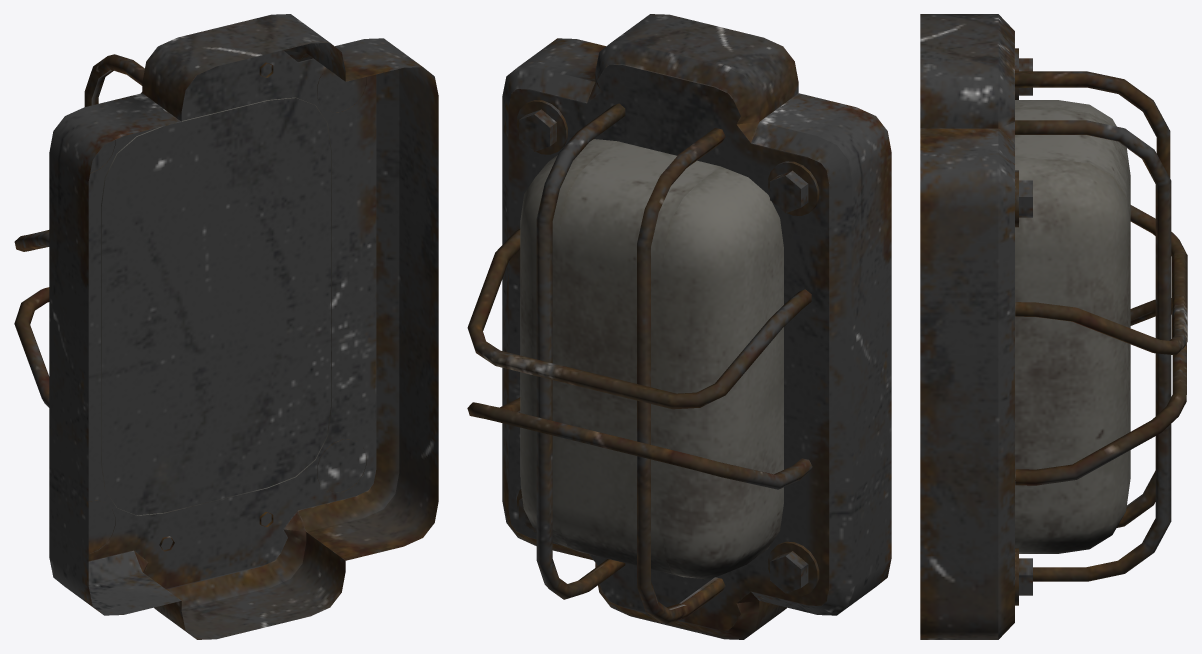
Rendered from Prop_SquareLight.fbx.
The picture shows the model from 3 angles, left to right: view 1: azimuth 30°, elevation 25°; view 2: azimuth 150°, elevation 25°; view 3: azimuth 270°, elevation 25°; orthographic projection.
Visible parts, largest first — view 1: Prop_SquareLight; view 2: Prop_SquareLight; view 3: Prop_SquareLight.
Part boxes in pixels (bbox=[...]): Prop_SquareLight: bbox=[14, 14, 438, 639]; Prop_SquareLight: bbox=[467, 14, 891, 639]; Prop_SquareLight: bbox=[920, 14, 1187, 639].
Size of the model in its own units: 14.8 by 23.15 by 9.86.
